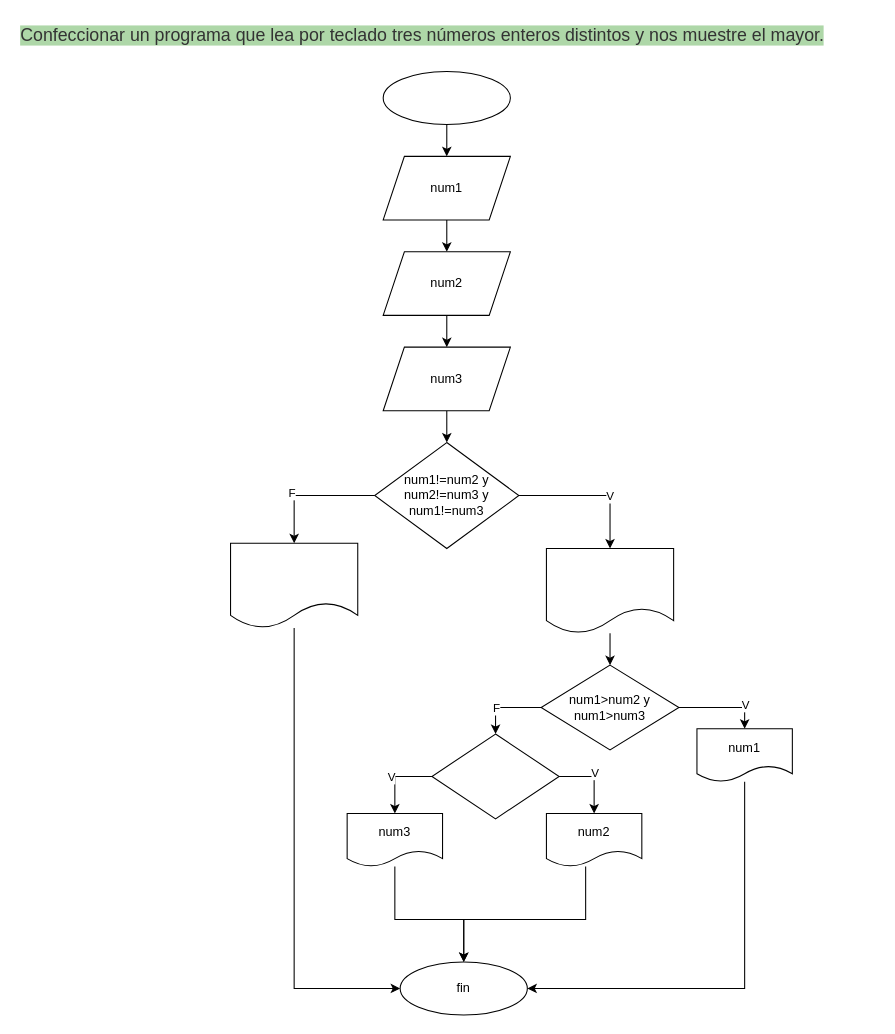
The diagram is 895 pixels wide and 1034 high, and some of its shapes have lost their labels. Each missing label, with the centre of its shape:
"El valor mayor es": point (609, 590)
"¡Los valores ingresados no son todos distintos!": point (293, 585)
inicio: point (446, 97)
num2>num1 y num2>num3: point (495, 776)
